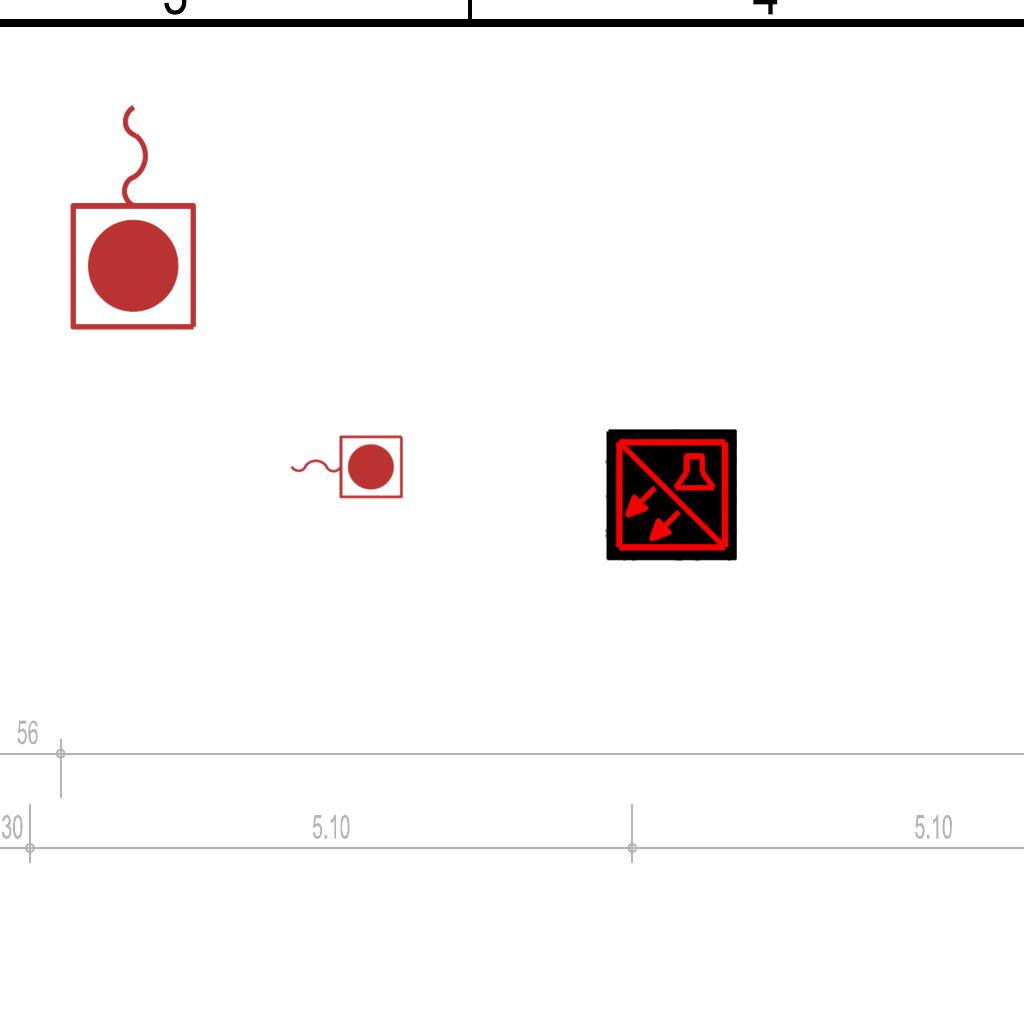OKW_Multisensormelder_(Kombination_optischer_Rauch-Kahlenmonoxid_Waerme-Melder): (605, 429, 737, 561)
Zugtaster: (63, 94, 207, 338), (285, 430, 407, 502)
